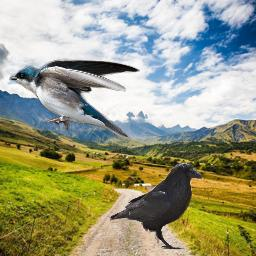Crow: (108, 162, 203, 249)
Swallow: (9, 58, 140, 139)
